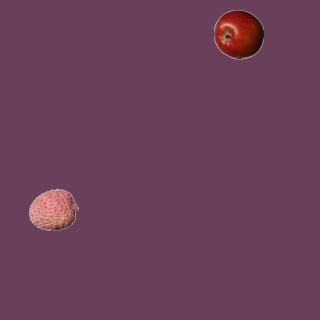Apple Braeburn: (213, 9, 263, 59)
Lychee: (28, 184, 78, 234)
